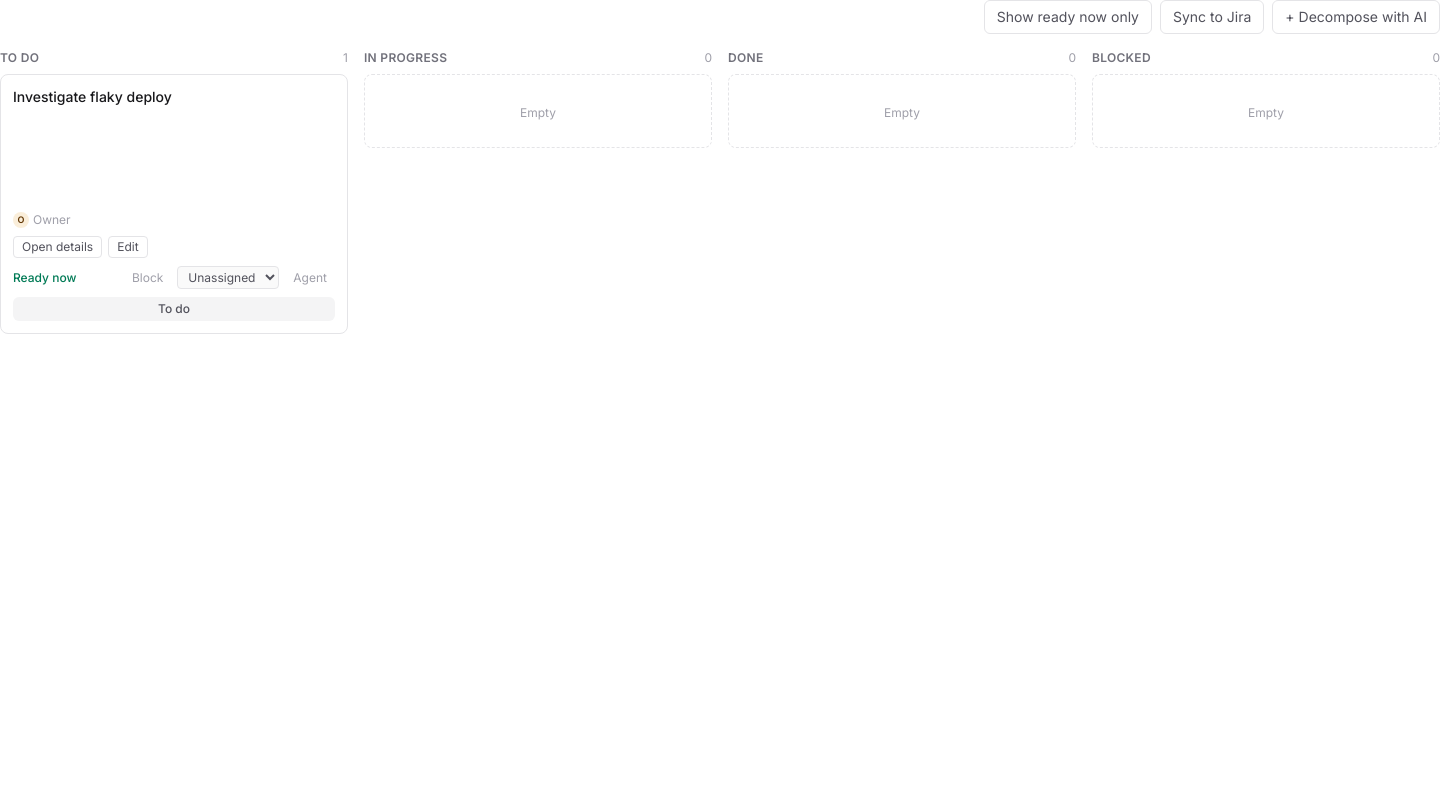
Scenario: TaskBoard task detail shortcuts › opens task modal directly in edit mode from Edit shortcut
The width and height of the screenshot is (1440, 810).
Click the button "Edit" at (128, 247), box [108,236,148,258]
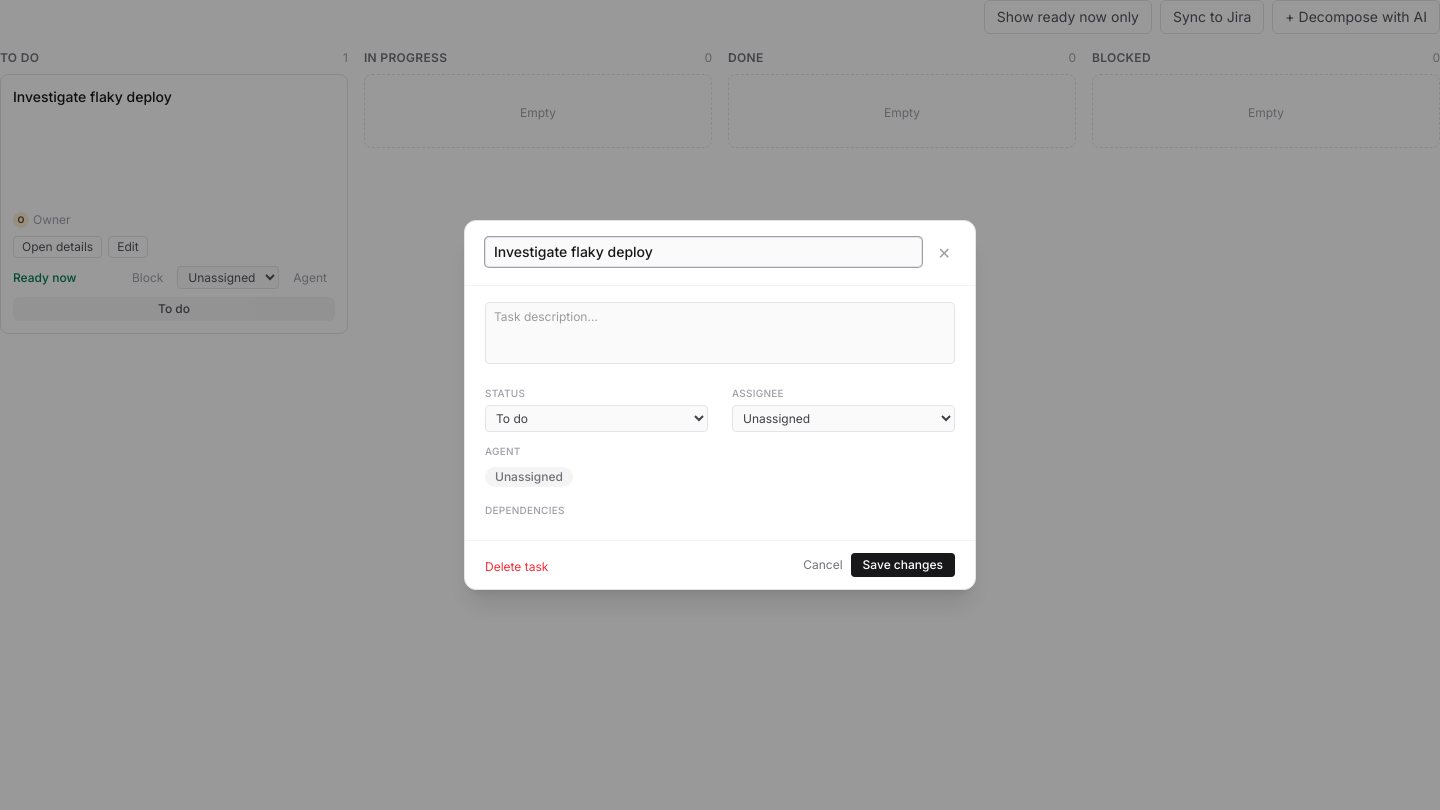
Now the button "Save changes" is shown, box [851,553,955,577]
